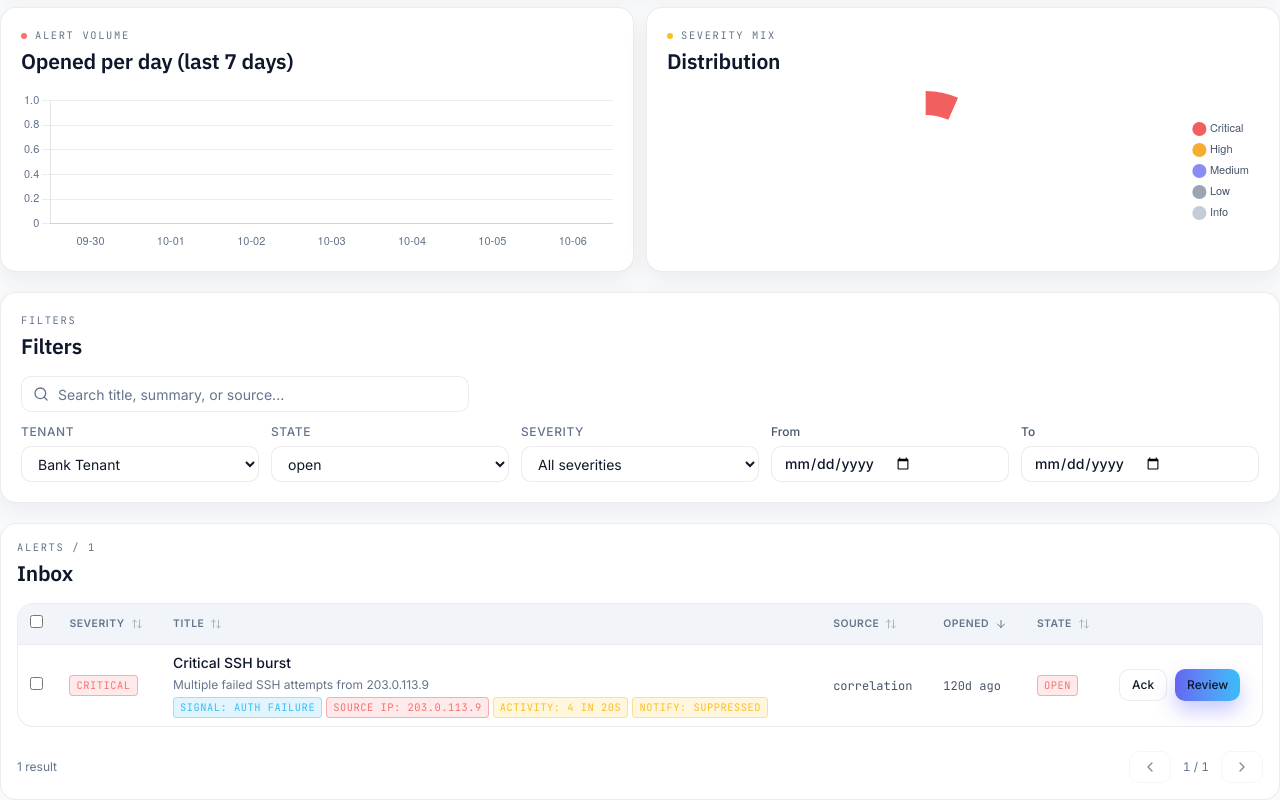
Scenario: Alerts page failure states › shows the correlation activity summary and contributing events
The image size is (1280, 800).
(page scrolled)
Expected: the text "Activity: 4 in 20s" is shown, [500,700,621,715]
Click the button with aria-label "review alert critical ssh burst" at point(1208, 685), box [1175,669,1240,701]
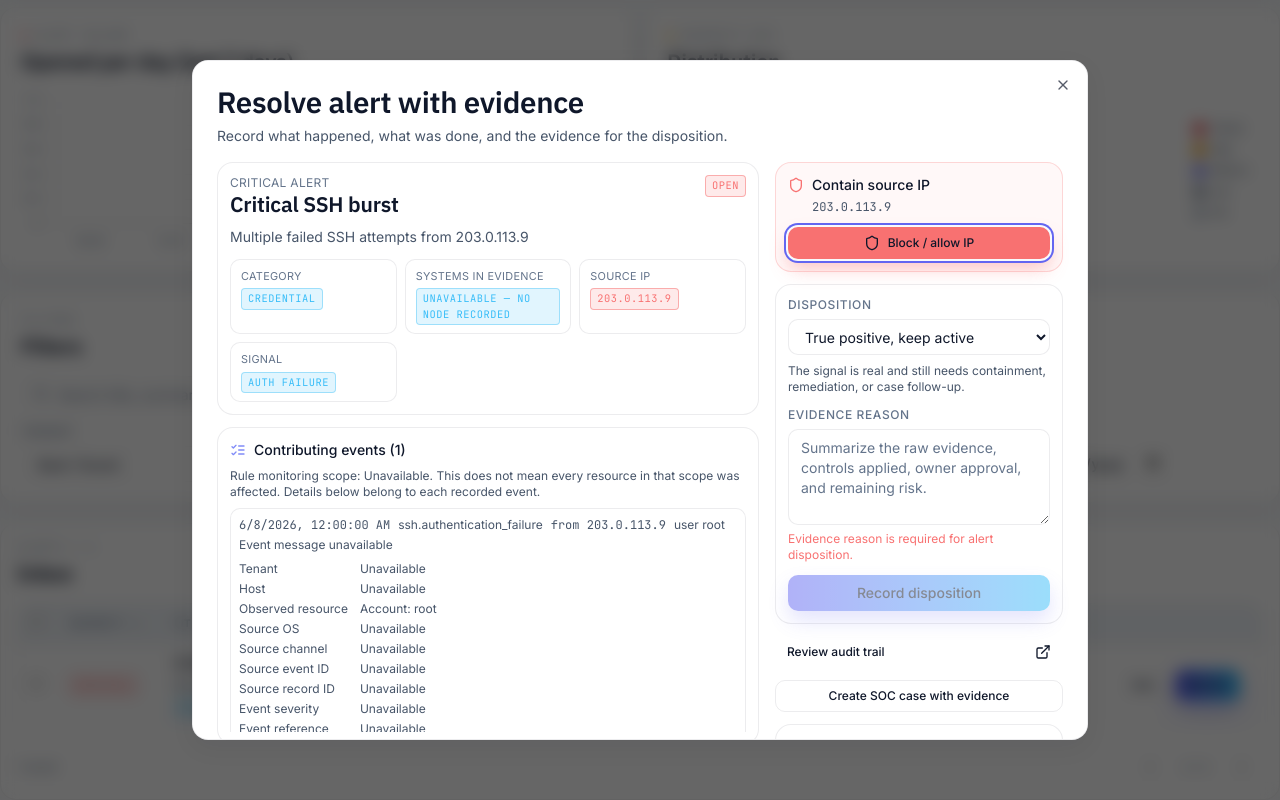
Result: the text "Contributing events (1)" is shown at [230,441,406,458]
Result: the text "ssh.authentication_failure" is shown at [398,517,543,532]
Result: the button "Create SOC case with evidence" is shown at [775,680,1063,712]
